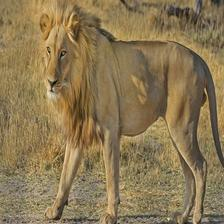Lion: (37, 13, 224, 224)
